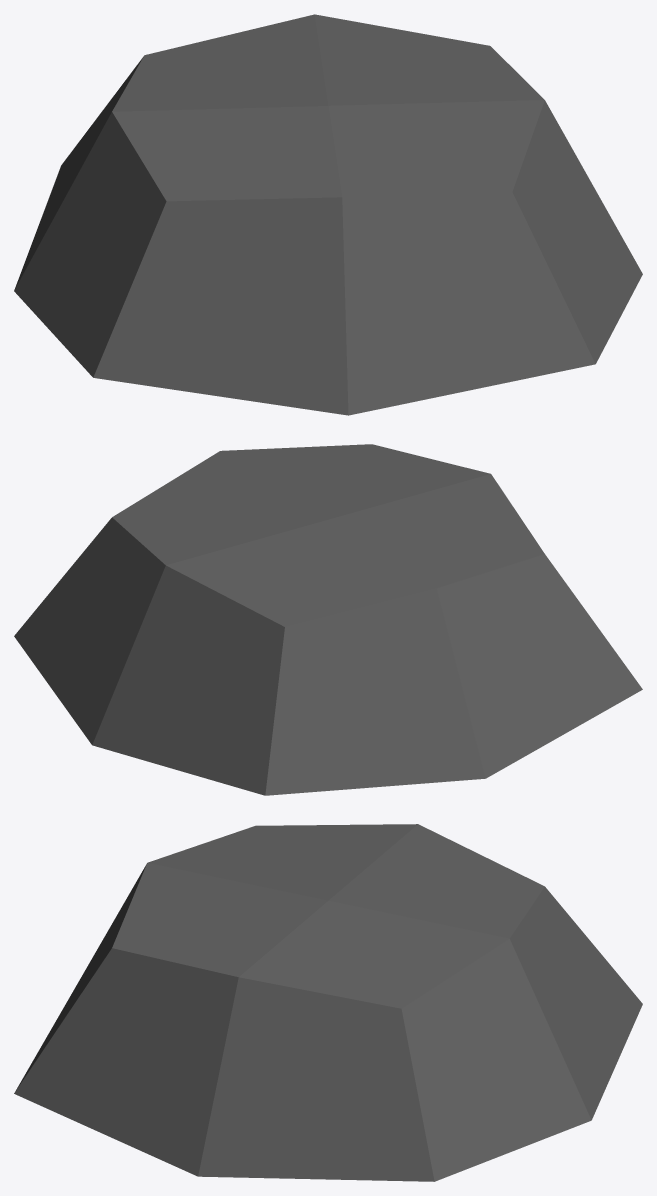
Rendered from SmallRock.fbx.
The picture shows the model from 3 angles, top to bottom: view 1: azimuth 30°, elevation 25°; view 2: azimuth 150°, elevation 25°; view 3: azimuth 270°, elevation 25°; orthographic projection. The views are drawn at different scales.
Parts seen in each view (by area): view 1: SmallRock; view 2: SmallRock; view 3: SmallRock.
Part boxes in pixels (x1,y1,x2,y2): SmallRock: (14, 14, 642, 415); SmallRock: (14, 444, 642, 795); SmallRock: (14, 824, 642, 1181).
Bounding box in the file's own units: 0.1428 × 0.0413 × 0.1428.
1 material, 1 textured.
